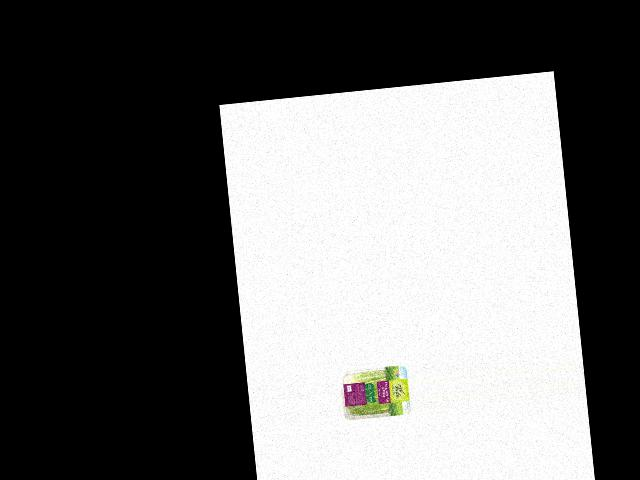lettuce: (338, 364, 406, 421)
